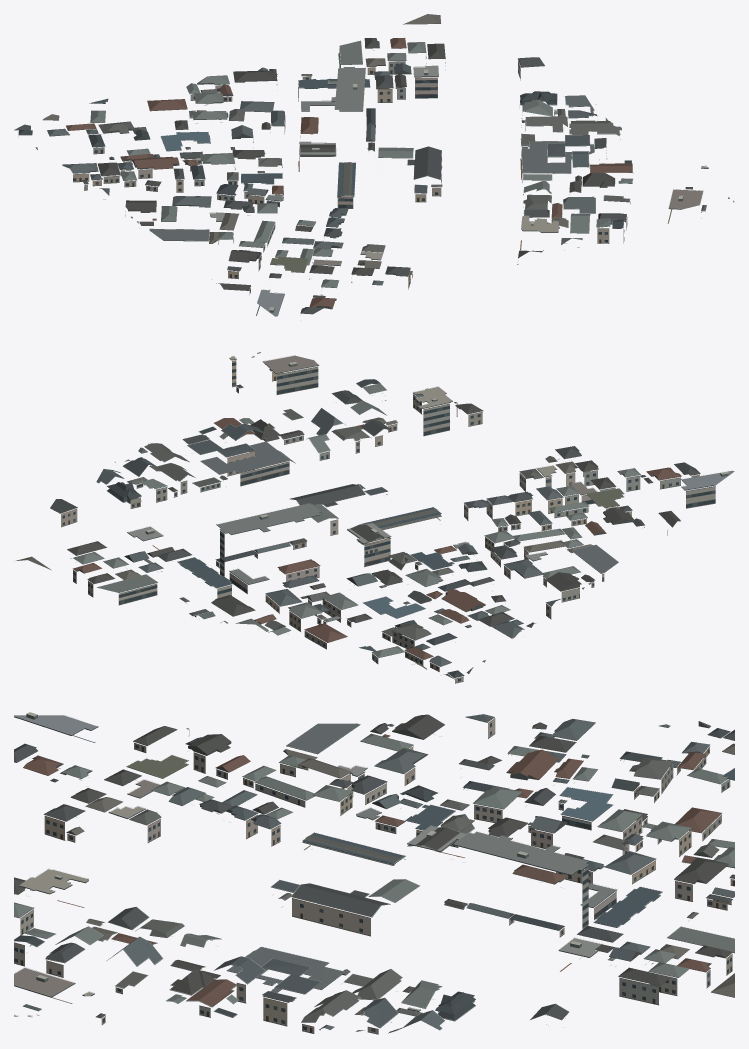
3 views of the same model, one above another, from view 1: azimuth 30°, elevation 25°; view 2: azimuth 150°, elevation 25°; view 3: azimuth 270°, elevation 25° (orthographic). The views are drawn at different scales.
Visible parts, largest first — view 1: r2-c2; view 2: r2-c2; view 3: r2-c2.
Boxes of the visible parts, box(x1,y1,x2,y2) form: r2-c2: box(14, 14, 734, 316); r2-c2: box(14, 352, 734, 683); r2-c2: box(14, 712, 734, 1034).
Size of the model in its own units: 250 by 24.5 by 250.
